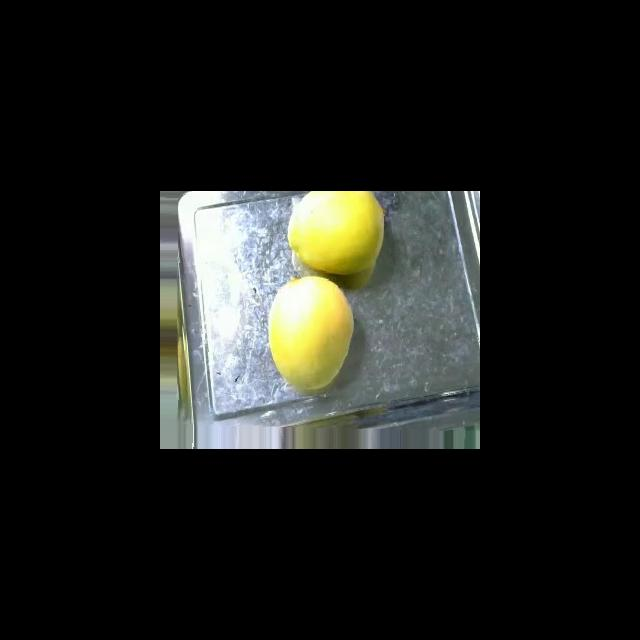Mango: (267, 275, 354, 392), (287, 191, 384, 275)
